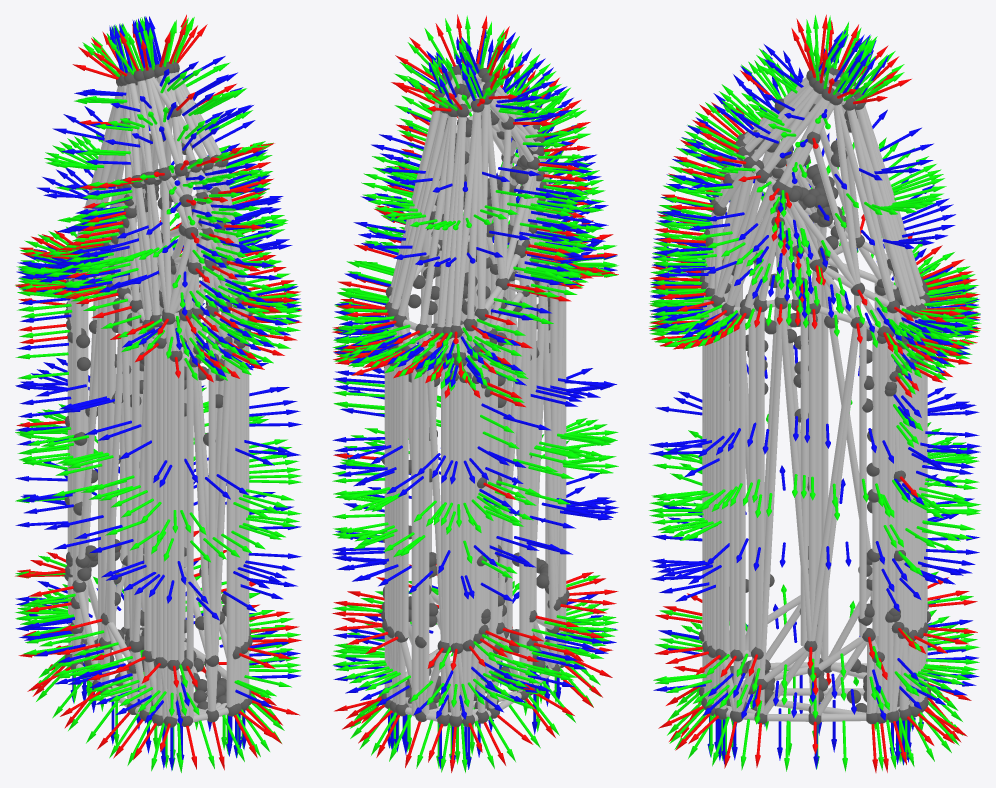
The model's file is flowrep_bottle.gltf.
The picture shows the model from 3 angles, left to right: view 1: azimuth 30°, elevation 25°; view 2: azimuth 150°, elevation 25°; view 3: azimuth 270°, elevation 25°; orthographic projection.
Bounding box in the file's own units: 0.3317 × 1.1 × 0.4605.
